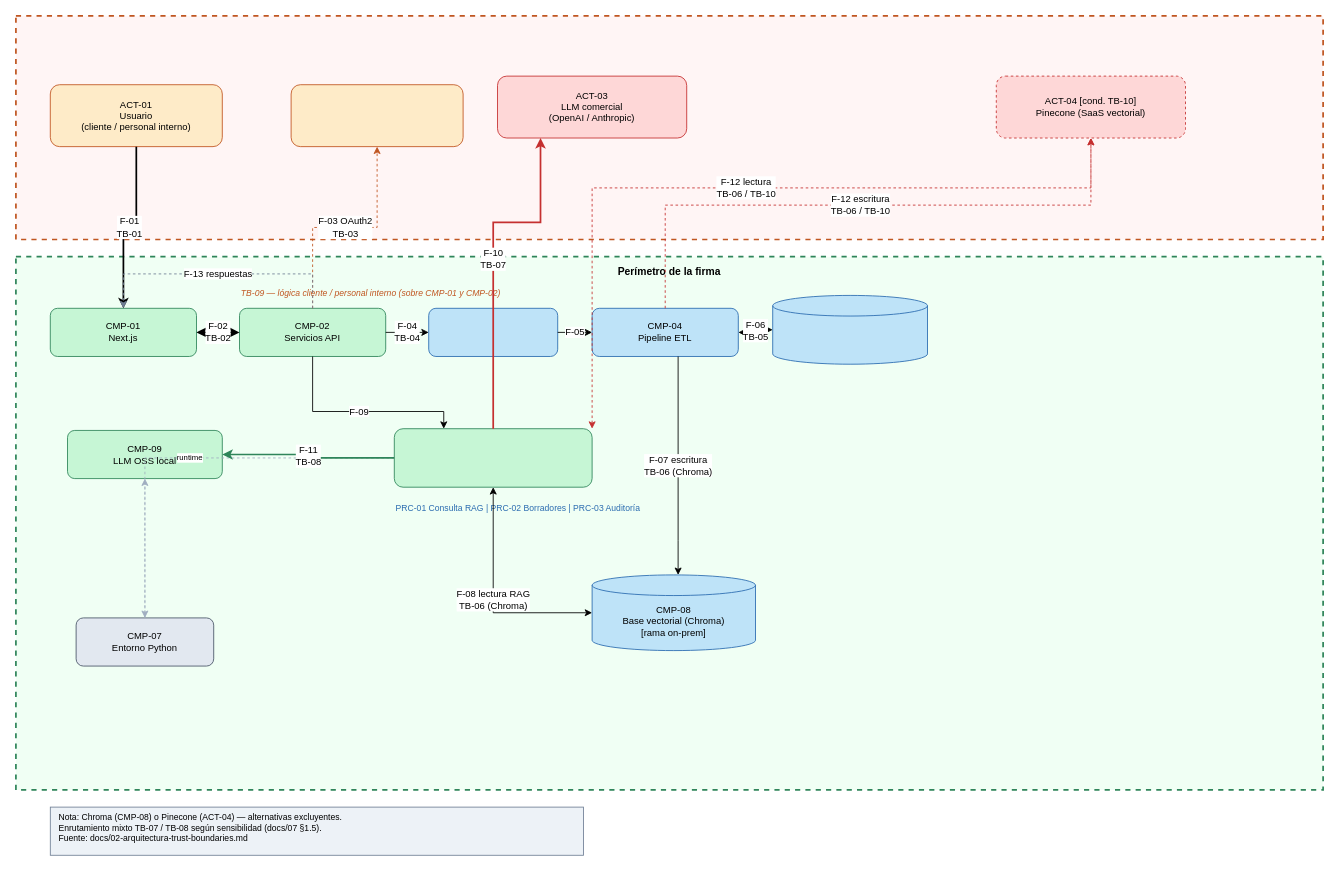
Image size: 1338x870. Some labels were removed from this diagram. Each missing label, with the box of its shape:
ACT-02 Proveedor IdP (OAuth2): (290, 84, 463, 147)
CMP-03 RabbitMQ: (428, 307, 558, 356)
CMP-05 Almacén de documentos y plantillas: (772, 295, 928, 364)
CMP-06 Orquestador IA (LangChain / LlamaIndex): (393, 428, 592, 487)
Fuera del perímetro de la firma: (15, 15, 1324, 240)
